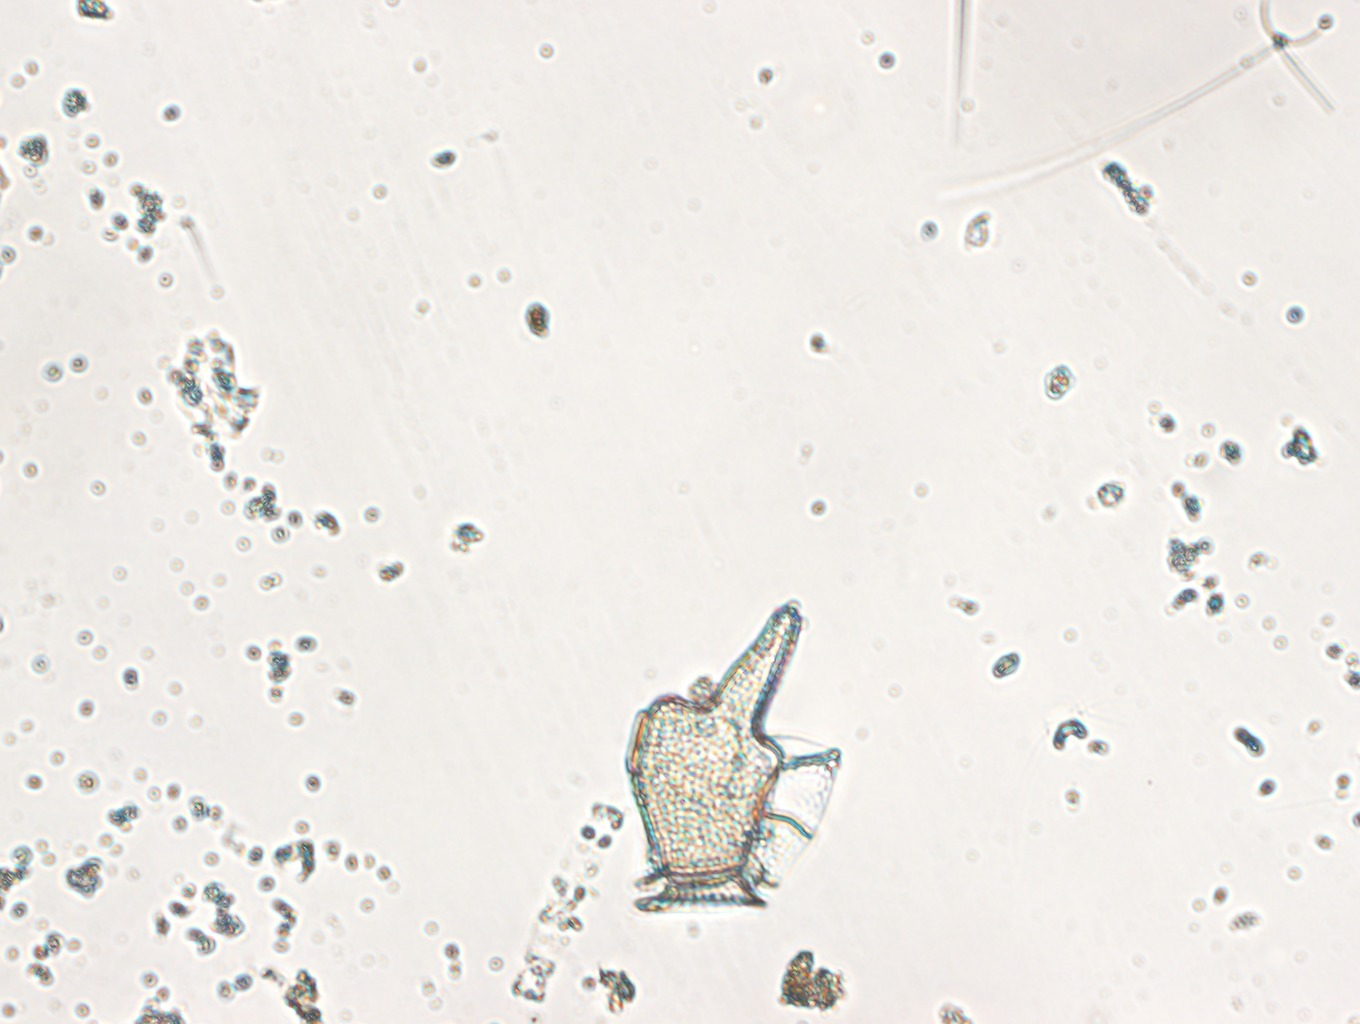dinophysis caudata: (615, 595, 855, 912)
